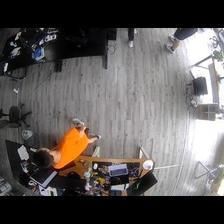normal: (32, 119, 102, 169)
